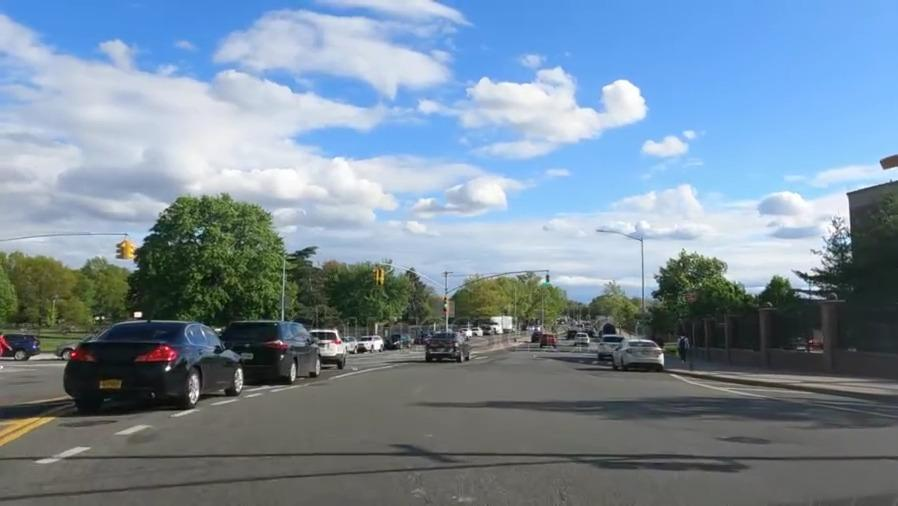car: (67, 327, 245, 409), (228, 319, 323, 387), (309, 321, 349, 371), (613, 338, 664, 370), (426, 331, 472, 365), (2, 327, 40, 363), (52, 336, 91, 358), (598, 333, 619, 359), (359, 334, 384, 355), (342, 334, 359, 358), (387, 334, 412, 350), (574, 331, 590, 348), (541, 333, 557, 350), (532, 331, 542, 342)
person: (677, 331, 689, 360), (0, 329, 7, 363)
pothole: (716, 427, 777, 451)
traffic light: (109, 238, 140, 266), (370, 265, 388, 288), (441, 294, 451, 319), (543, 269, 552, 291)
wheel: (181, 364, 207, 413), (225, 362, 247, 393), (287, 355, 301, 382), (310, 355, 324, 379)
